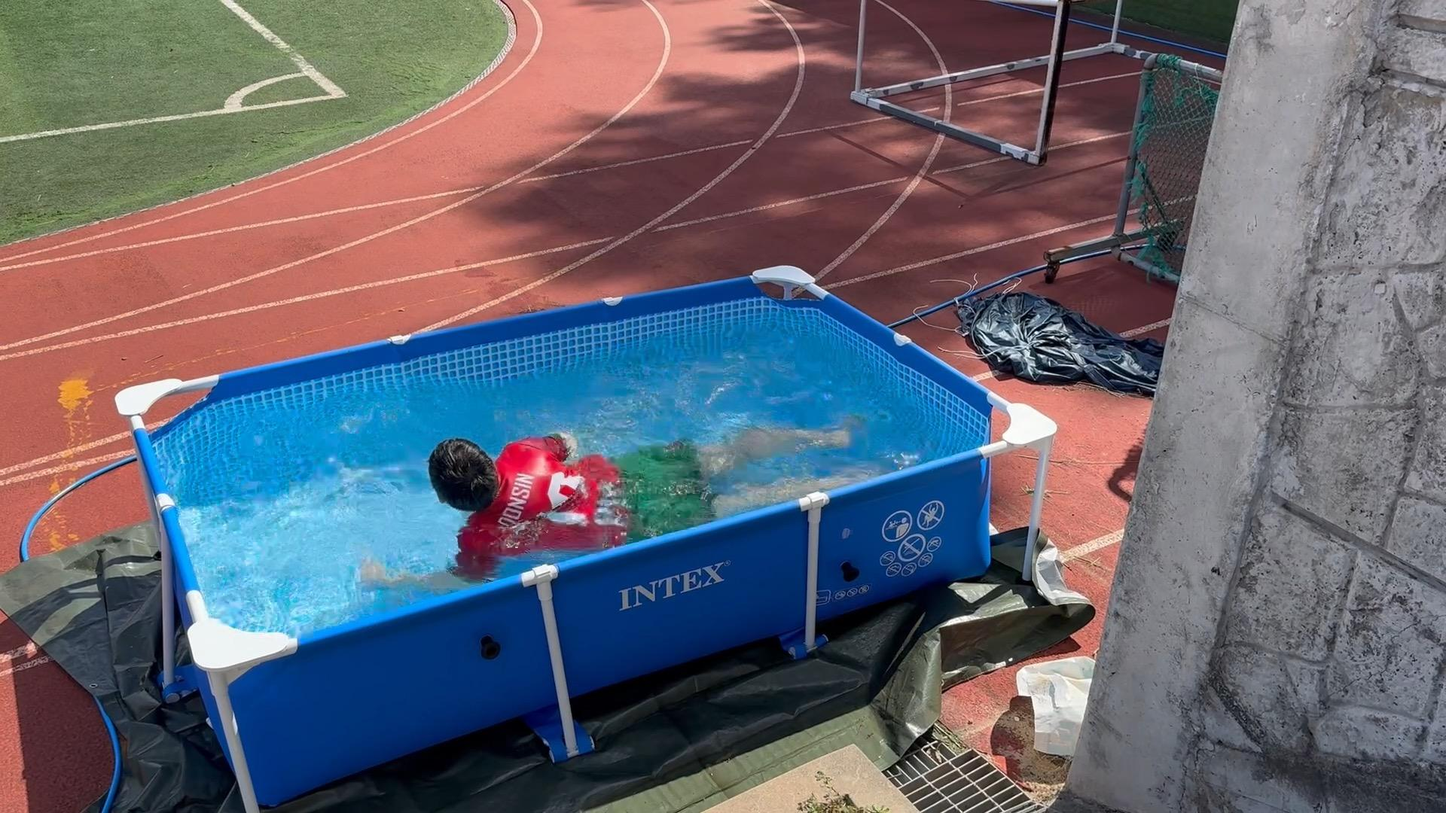Swimming: (283, 344, 936, 617)
